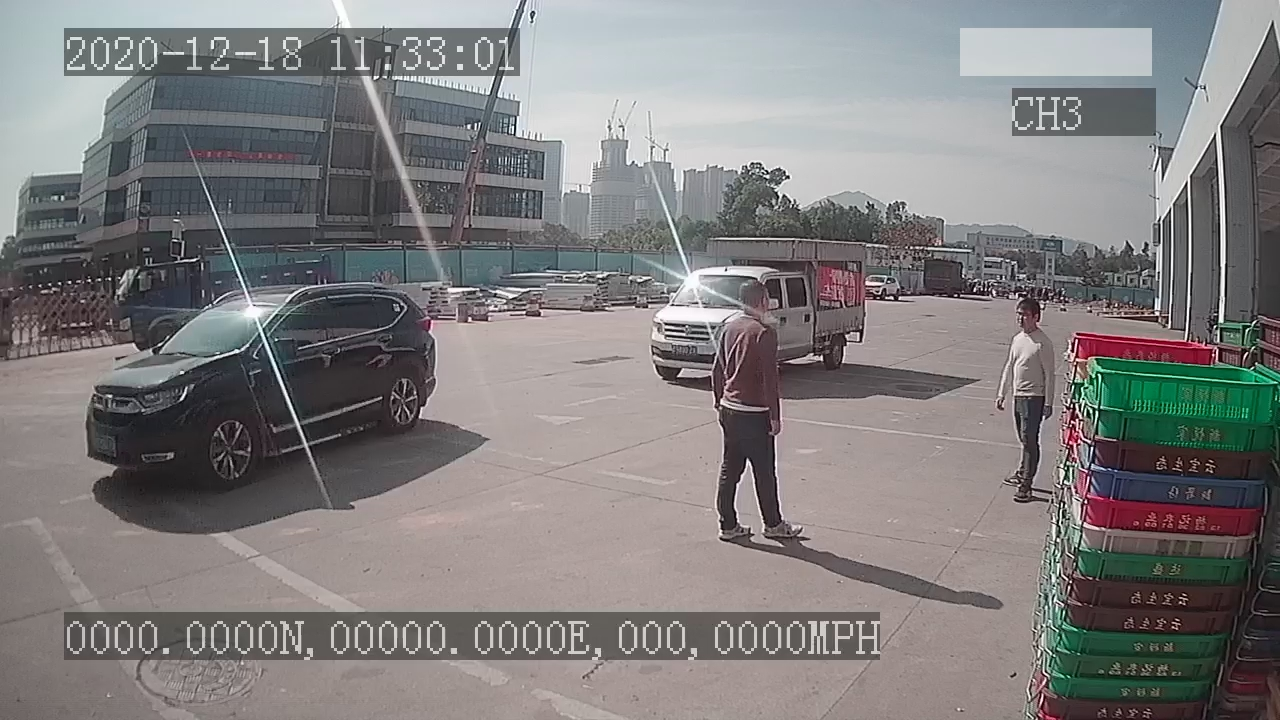person: (995, 293, 1056, 504)
